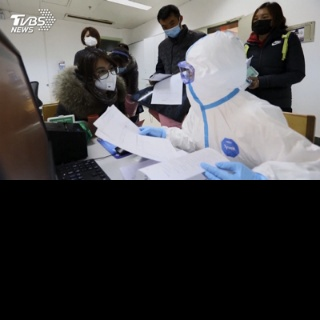with_mask: (95, 64, 117, 93), (251, 12, 273, 36), (162, 18, 180, 38), (82, 33, 98, 48)
